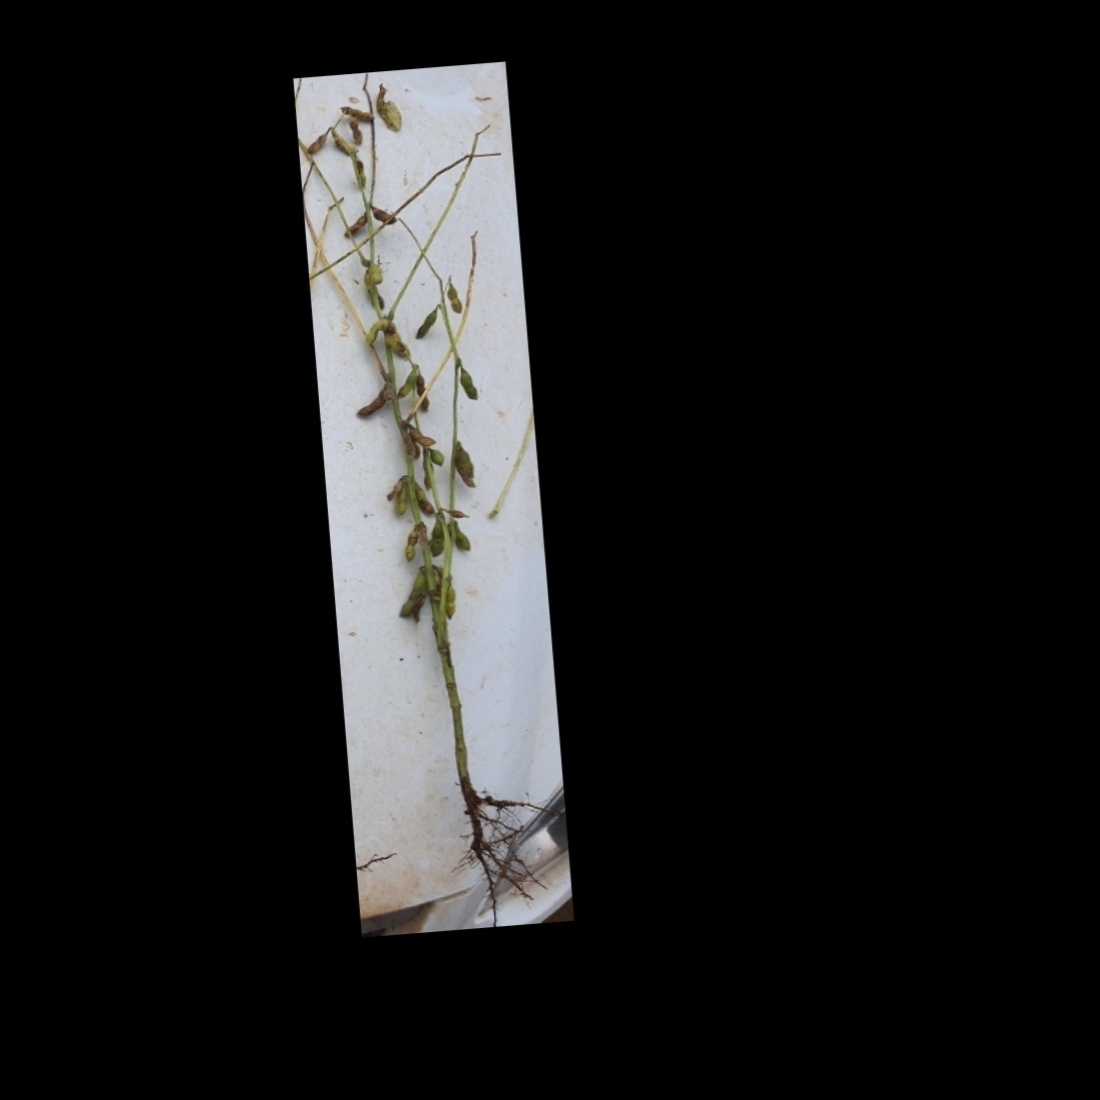pod: (348, 380, 391, 422), (410, 304, 444, 343), (339, 207, 371, 243), (423, 519, 448, 561), (360, 316, 387, 352), (304, 126, 333, 157), (342, 97, 375, 125), (394, 366, 420, 399), (365, 200, 396, 227), (403, 525, 424, 562), (442, 280, 464, 315), (452, 520, 473, 555), (441, 582, 459, 622), (458, 367, 478, 402), (343, 116, 365, 146), (354, 156, 369, 190), (370, 262, 387, 289), (429, 447, 447, 471)
soy: (297, 73, 558, 915)
